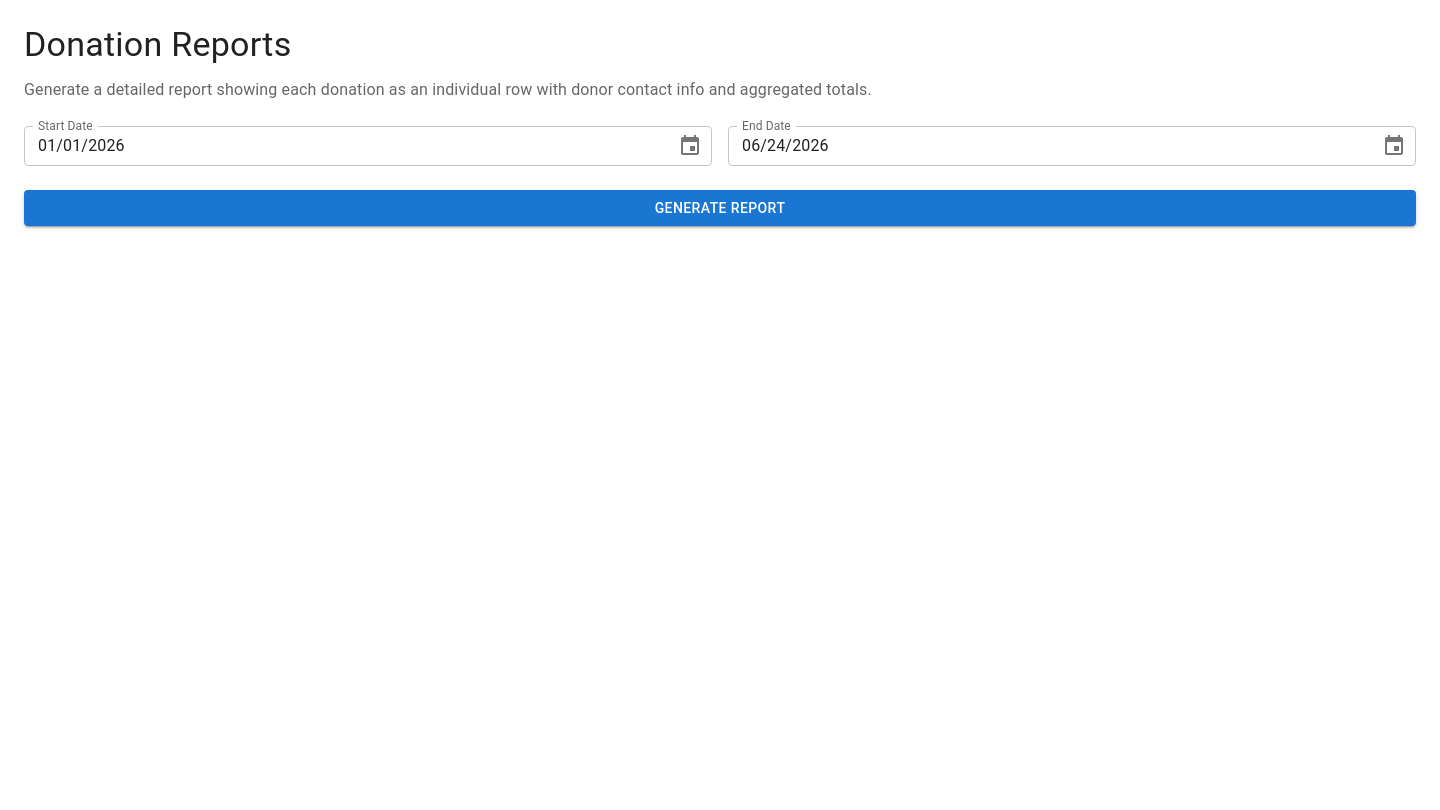
ReportsPage › displays error message in Snackbar when generate fails
The image size is (1440, 810).
Click the button "Generate Report" at (720, 208), box [24,190,1416,226]
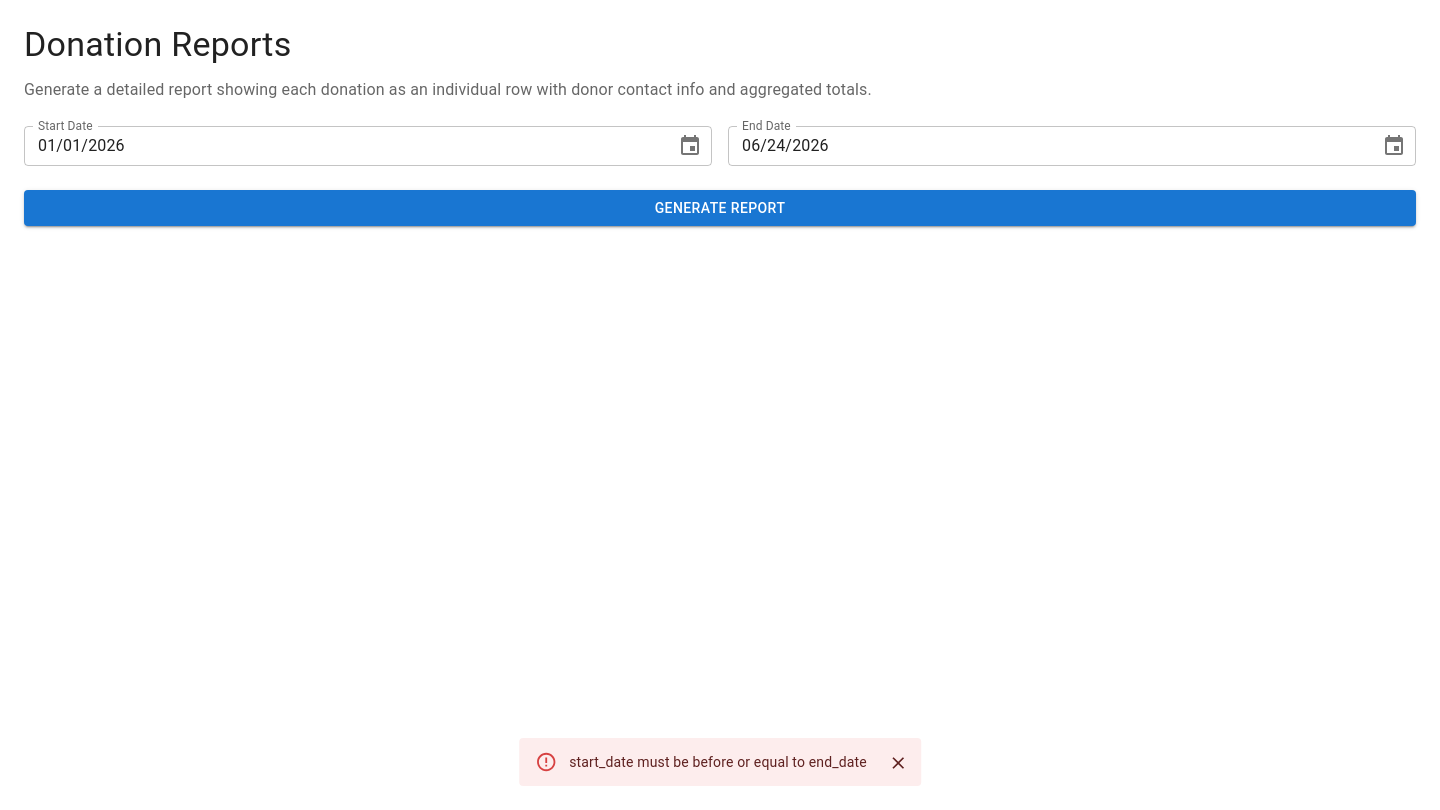
Check: the text "start_date must be before or equal to end_date" is shown, box [569,754,867,770]
